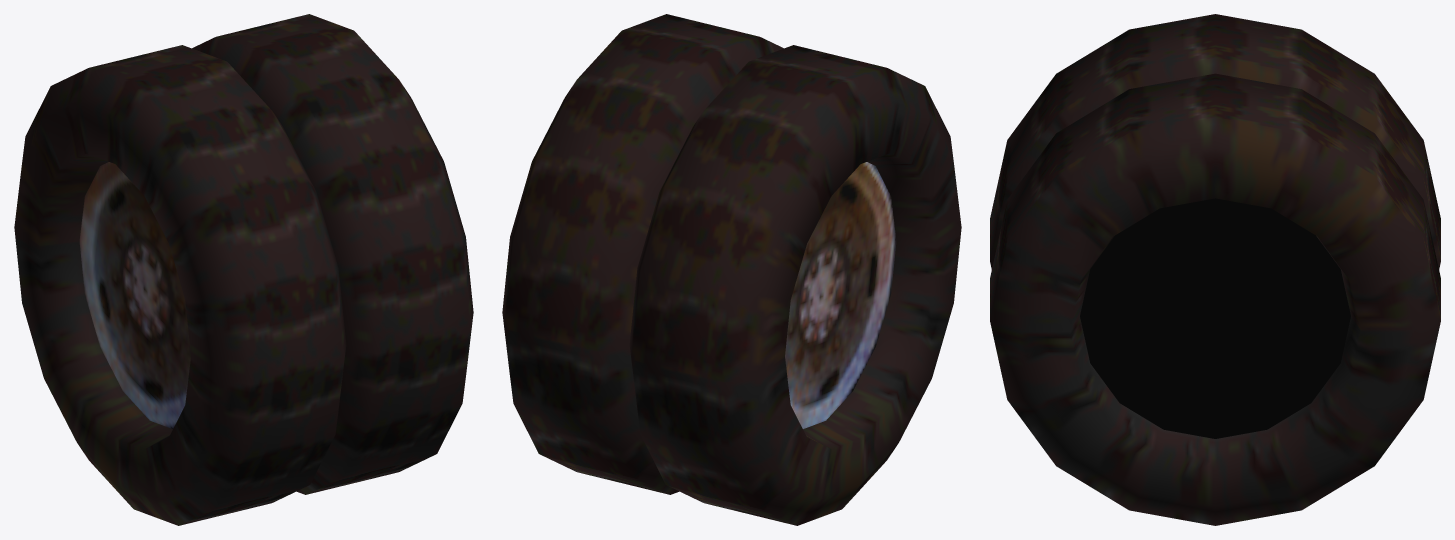
File: WheelLargeDoube.FBX
3 views of the same model, side by side, from view 1: azimuth 30°, elevation 25°; view 2: azimuth 150°, elevation 25°; view 3: azimuth 270°, elevation 25° (orthographic). The views are drawn at different scales.
Parts seen in each view (by area): view 1: Wheel_LargeDouble; view 2: Wheel_LargeDouble; view 3: Wheel_LargeDouble.
Part boxes in pixels (bbox=[...]): Wheel_LargeDouble: bbox=[14, 14, 473, 525]; Wheel_LargeDouble: bbox=[502, 14, 961, 525]; Wheel_LargeDouble: bbox=[990, 14, 1440, 525].
Size of the model in its own units: 3.04 by 4.8 by 4.8.
1 material, 1 textured.
